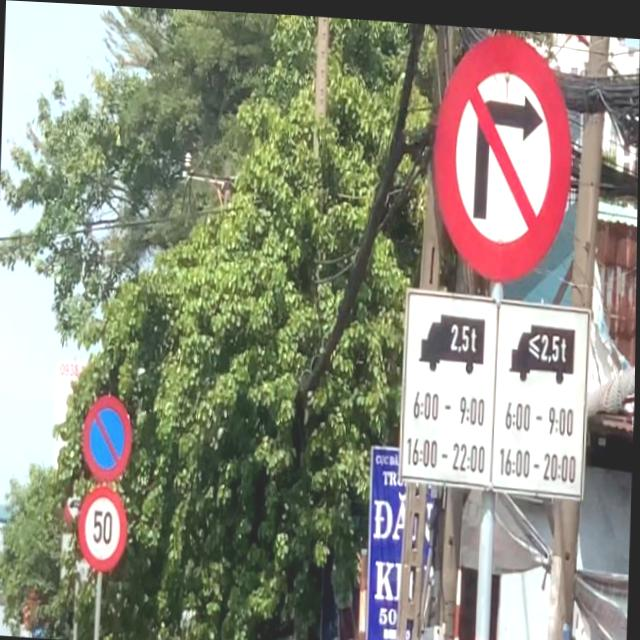Cam do xe: (80, 386, 138, 485)
Cam re phai: (428, 23, 582, 284)
Toc do toi da cho phep: (76, 481, 132, 573)
